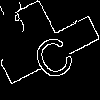C: (25, 25, 78, 83)
